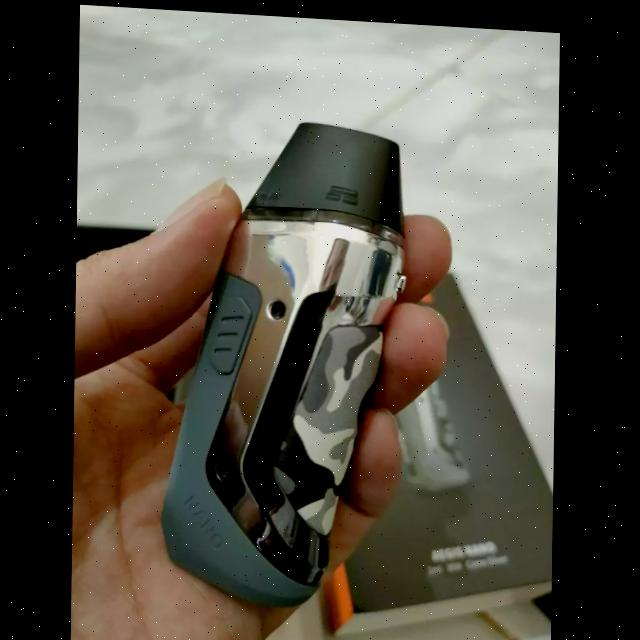vape: (163, 112, 409, 611)
